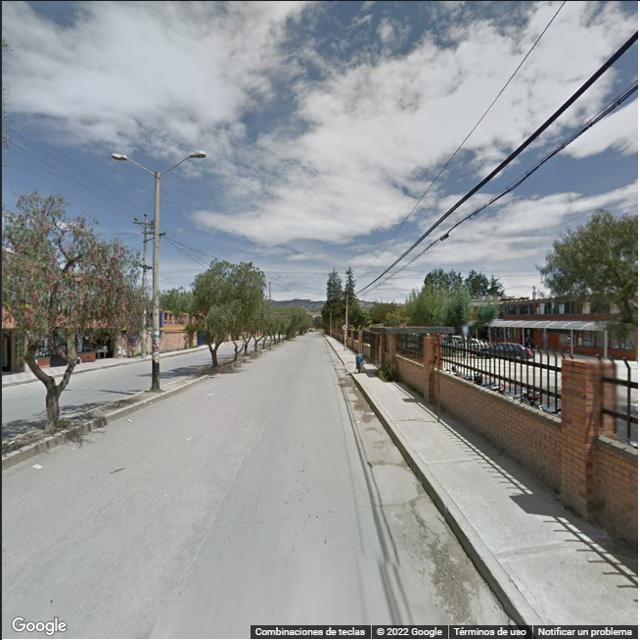D00: (403, 496, 436, 541)
D40: (426, 541, 477, 623)
